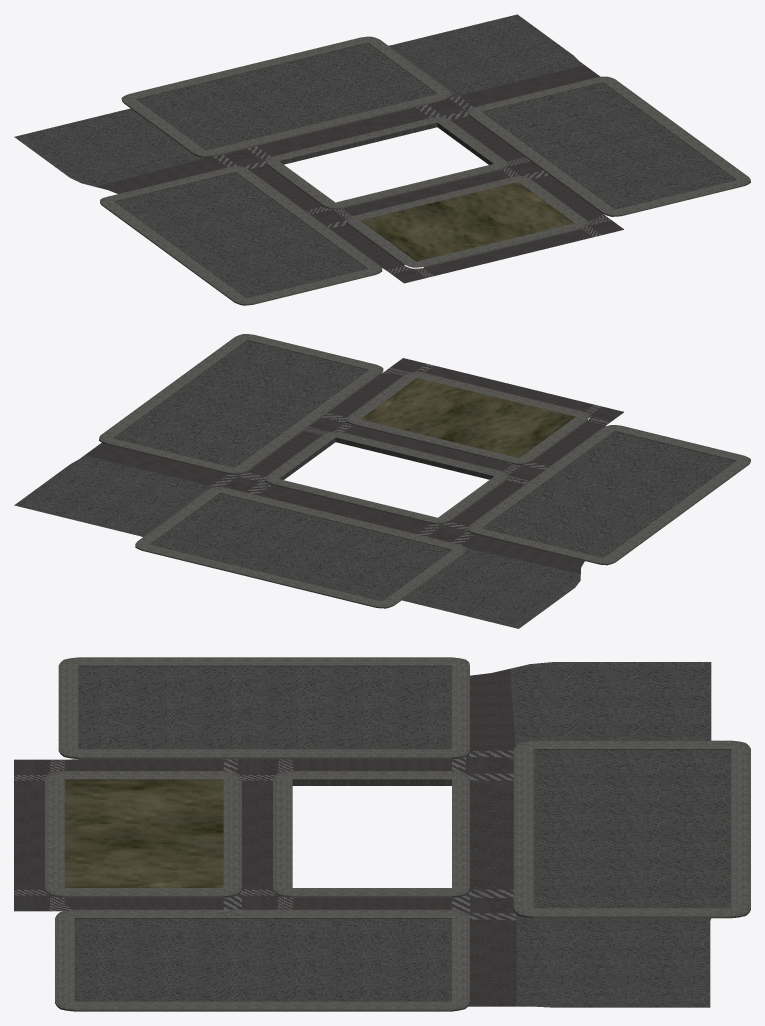
Rendered from env_roads.glb.
3 views of the same model, one above another, from view 1: azimuth 30°, elevation 25°; view 2: azimuth 150°, elevation 25°; view 3: azimuth 270°, elevation 25° (orthographic). The views are drawn at different scales.
Visible parts, largest first — view 1: env_roads; view 2: env_roads; view 3: env_roads.
Boxes of the visible parts, bbox=[...] form: env_roads: bbox=[14, 14, 750, 305]; env_roads: bbox=[14, 334, 750, 628]; env_roads: bbox=[14, 657, 750, 1011].
Bounding box in the file's own units: 0.2531 × 0.00223 × 0.2236.
9 materials, 9 textured.
